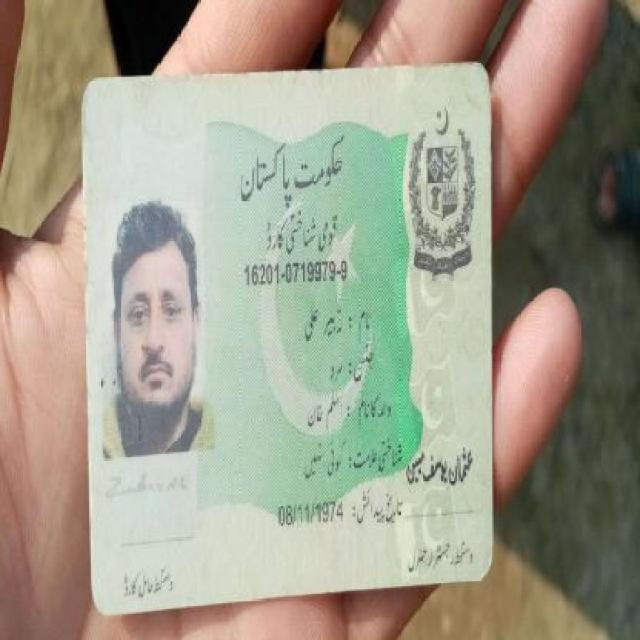Front: (60, 54, 506, 600)
